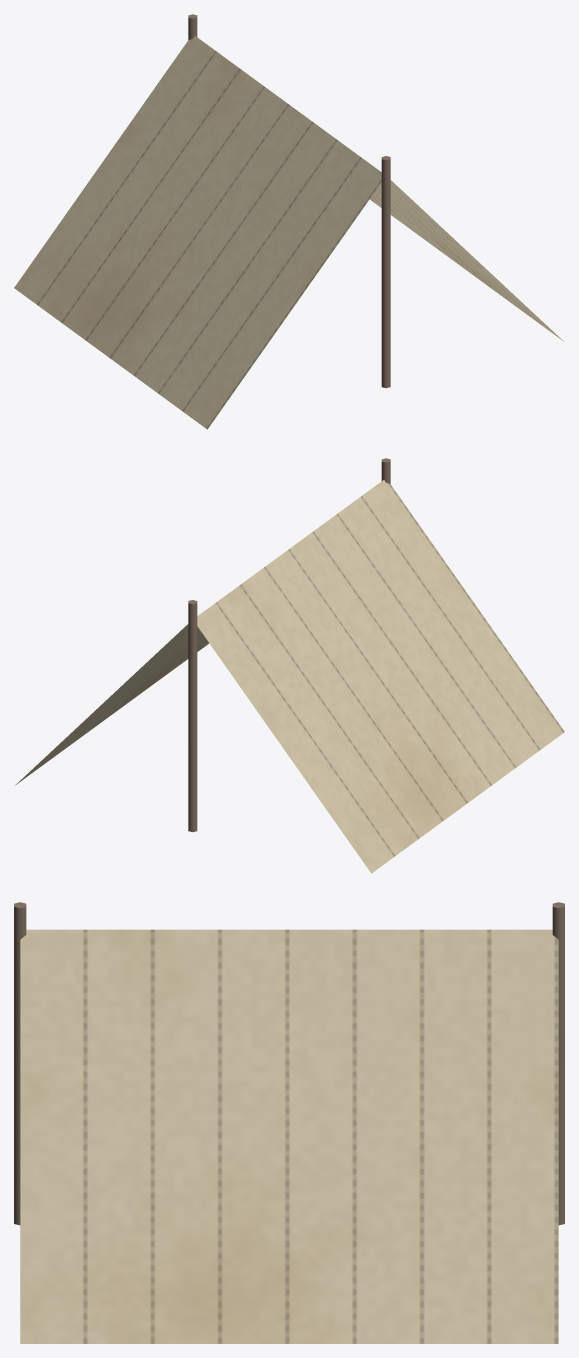
Rendered from SM_Art_Settlement_Camp_2.gltf.
3 renders of one model, top to bottom at view 1: azimuth 30°, elevation 25°; view 2: azimuth 150°, elevation 25°; view 3: azimuth 270°, elevation 25°, orthographic. The views are drawn at different scales.
Visible parts, largest first — view 1: SM_Art_Settlement_Camp_2; view 2: SM_Art_Settlement_Camp_2; view 3: SM_Art_Settlement_Camp_2.
Boxes of the visible parts, x1,y1,x2,y2 form: SM_Art_Settlement_Camp_2: (14,14,563,429); SM_Art_Settlement_Camp_2: (15,458,564,873); SM_Art_Settlement_Camp_2: (14,902,564,1343).
Size of the model in its own units: 3.2 by 1.95 by 3.07.
